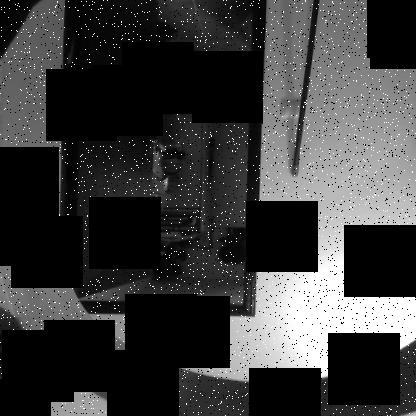Porte: (41, 1, 270, 319)
